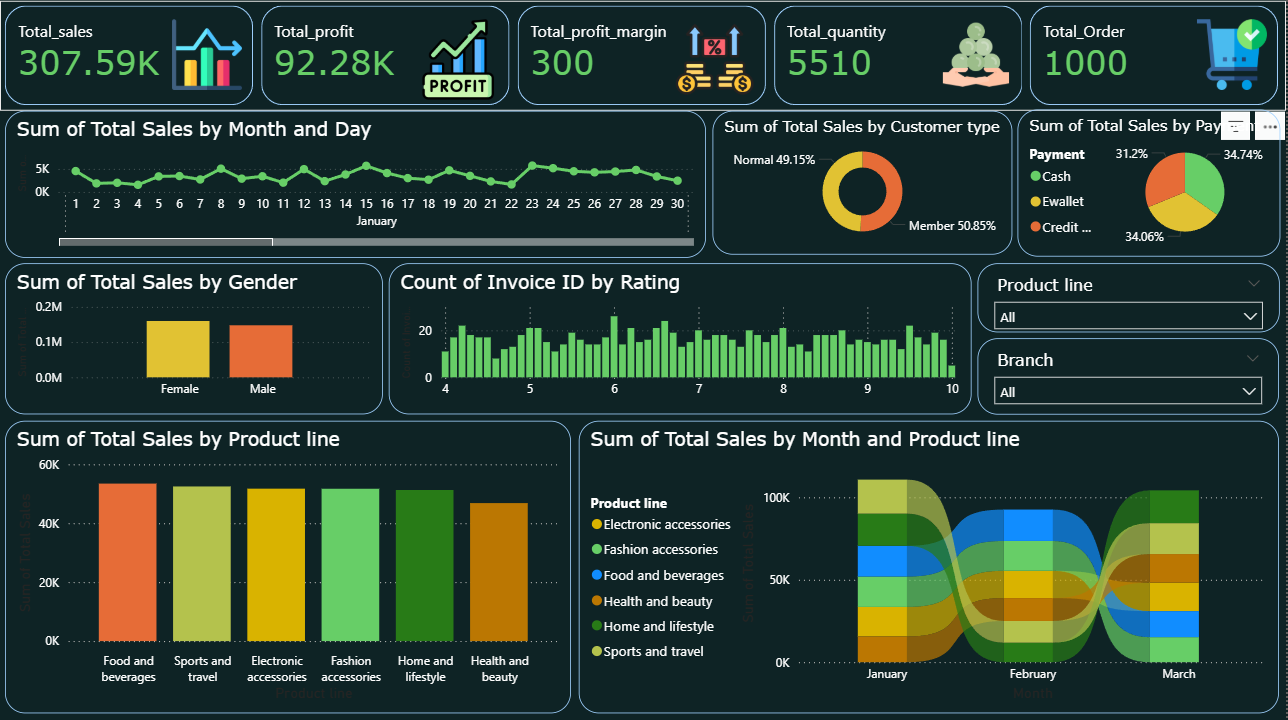

The page's visual inventory and layout, read from the dashboard file:
{"tool":"powerbi","page":{"name":"Page 1","canvas":[1280,720],"ordinal":0},"visuals":[{"type":"cardVisual","fields":{"Data":["1000-Supermarket-Sales.Total_sales","1000-Supermarket-Sales.Total_profit","1000-Supermarket-Sales.Total_profit_margin","1000-Supermarket-Sales.Total_quantity","1000-Supermarket-Sales.Total_Order"]},"box":[8.4,68.5,1259.3,105.1],"z":0},{"type":"lineChart","fields":{"Category":["1000-Supermarket-Sales.Date.Variation.Date Hierarchy.Month","1000-Supermarket-Sales.Date.Variation.Date Hierarchy.Day"],"Y":["Sum(1000-Supermarket-Sales.Total Sales)"]},"box":[4.7,182,686.9,146.4],"z":1000},{"type":"donutChart","title":"Total Sales by Customer type","fields":{"Category":["1000-Supermarket-Sales.Customer type"],"Y":["Sum(1000-Supermarket-Sales.Total Sales)"]},"box":[472.9,491.7,245.8,221.4],"z":2000},{"type":"pieChart","fields":{"Category":["1000-Supermarket-Sales.Payment"],"Y":["Sum(1000-Supermarket-Sales.Total Sales)"]},"box":[951.5,182,316.2,259.9],"z":3000},{"type":"clusteredBarChart","fields":{"Category":["1000-Supermarket-Sales.Gender"],"Y":["Sum(1000-Supermarket-Sales.Total Sales)"]},"box":[4.7,341.6,349.1,137],"z":4000},{"type":"clusteredColumnChart","fields":{"Category":["1000-Supermarket-Sales.Rating"],"Y":["CountNonNull(1000-Supermarket-Sales.Invoice ID)"]},"box":[365,341.6,578,137],"z":5000},{"type":"clusteredBarChart","fields":{"Category":["1000-Supermarket-Sales.Product line"],"Y":["Sum(1000-Supermarket-Sales.Total Sales)"]},"box":[4.7,491.7,456,221.4],"z":6000},{"type":"slicer","fields":{"Values":["1000-Supermarket-Sales.Product line"]},"box":[703.8,182,239.3,73.2],"z":7000},{"type":"slicer","fields":{"Values":["1000-Supermarket-Sales.Branch"]},"box":[703.8,259.9,239.3,68.5],"z":8000},{"type":"ribbonChart","fields":{"Category":["1000-Supermarket-Sales.Date.Variation.Date Hierarchy.Month","1000-Supermarket-Sales.Date.Variation.Date Hierarchy.Day"],"Series":["1000-Supermarket-Sales.Product line"],"Y":["Sum(1000-Supermarket-Sales.Total Sales)"]},"box":[730,491.7,542.4,221.4],"z":9000},{"type":"textbox","title":"Supermarket Sales Analysis Dashboard","box":[8.4,10.3,1251.7,50.7],"z":10000},{"type":"textbox","title":"Designed By : Parag Taide","box":[961.8,459.8,298.4,31.9],"z":10001}]}

Visuals, with their boxes in screenshot pixels (x1, y1, x2, y2), scaled from the page's 1280x720 canvas onto the 1288x720 screenshot:
cardVisual - 1000-Supermarket-Sales.Total_sales x 1000-Supermarket-Sales.Total_profit: left=8, top=68, right=1276, bottom=174
lineChart - 1000-Supermarket-Sales.Date.Variation.Date Hierarchy.Month x 1000-Supermarket-Sales.Date.Variation.Date Hierarchy.Day: left=5, top=182, right=696, bottom=328
"Total Sales by Customer type" donutChart: left=476, top=492, right=723, bottom=713
pieChart - 1000-Supermarket-Sales.Payment x Sum(1000-Supermarket-Sales.Total Sales): left=957, top=182, right=1276, bottom=442
clusteredBarChart - 1000-Supermarket-Sales.Gender x Sum(1000-Supermarket-Sales.Total Sales): left=5, top=342, right=356, bottom=479
clusteredColumnChart - 1000-Supermarket-Sales.Rating x CountNonNull(1000-Supermarket-Sales.Invoice ID): left=367, top=342, right=949, bottom=479
clusteredBarChart - 1000-Supermarket-Sales.Product line x Sum(1000-Supermarket-Sales.Total Sales): left=5, top=492, right=464, bottom=713
slicer - 1000-Supermarket-Sales.Product line: left=708, top=182, right=949, bottom=255
slicer - 1000-Supermarket-Sales.Branch: left=708, top=260, right=949, bottom=328
ribbonChart - 1000-Supermarket-Sales.Date.Variation.Date Hierarchy.Month x 1000-Supermarket-Sales.Date.Variation.Date Hierarchy.Day: left=735, top=492, right=1280, bottom=713
"Supermarket Sales Analysis Dashboard" textbox: left=8, top=10, right=1268, bottom=61
"Designed By : Parag Taide" textbox: left=968, top=460, right=1268, bottom=492
